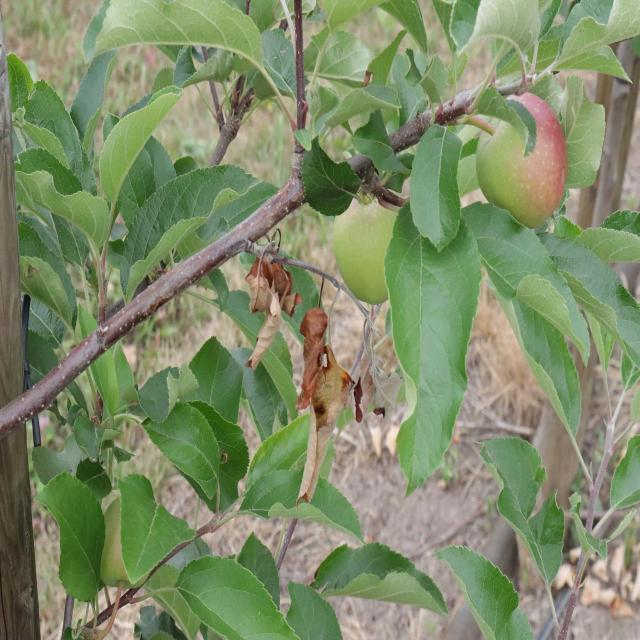-FireBlight-: (296, 293, 351, 499), (234, 234, 298, 352)
